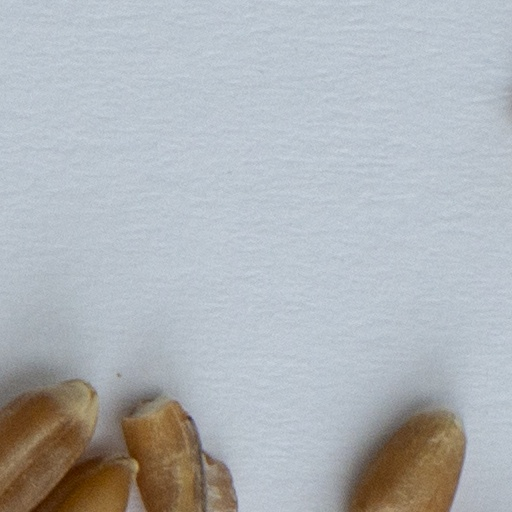Wheat-grain-poly: (348, 410, 466, 511)
